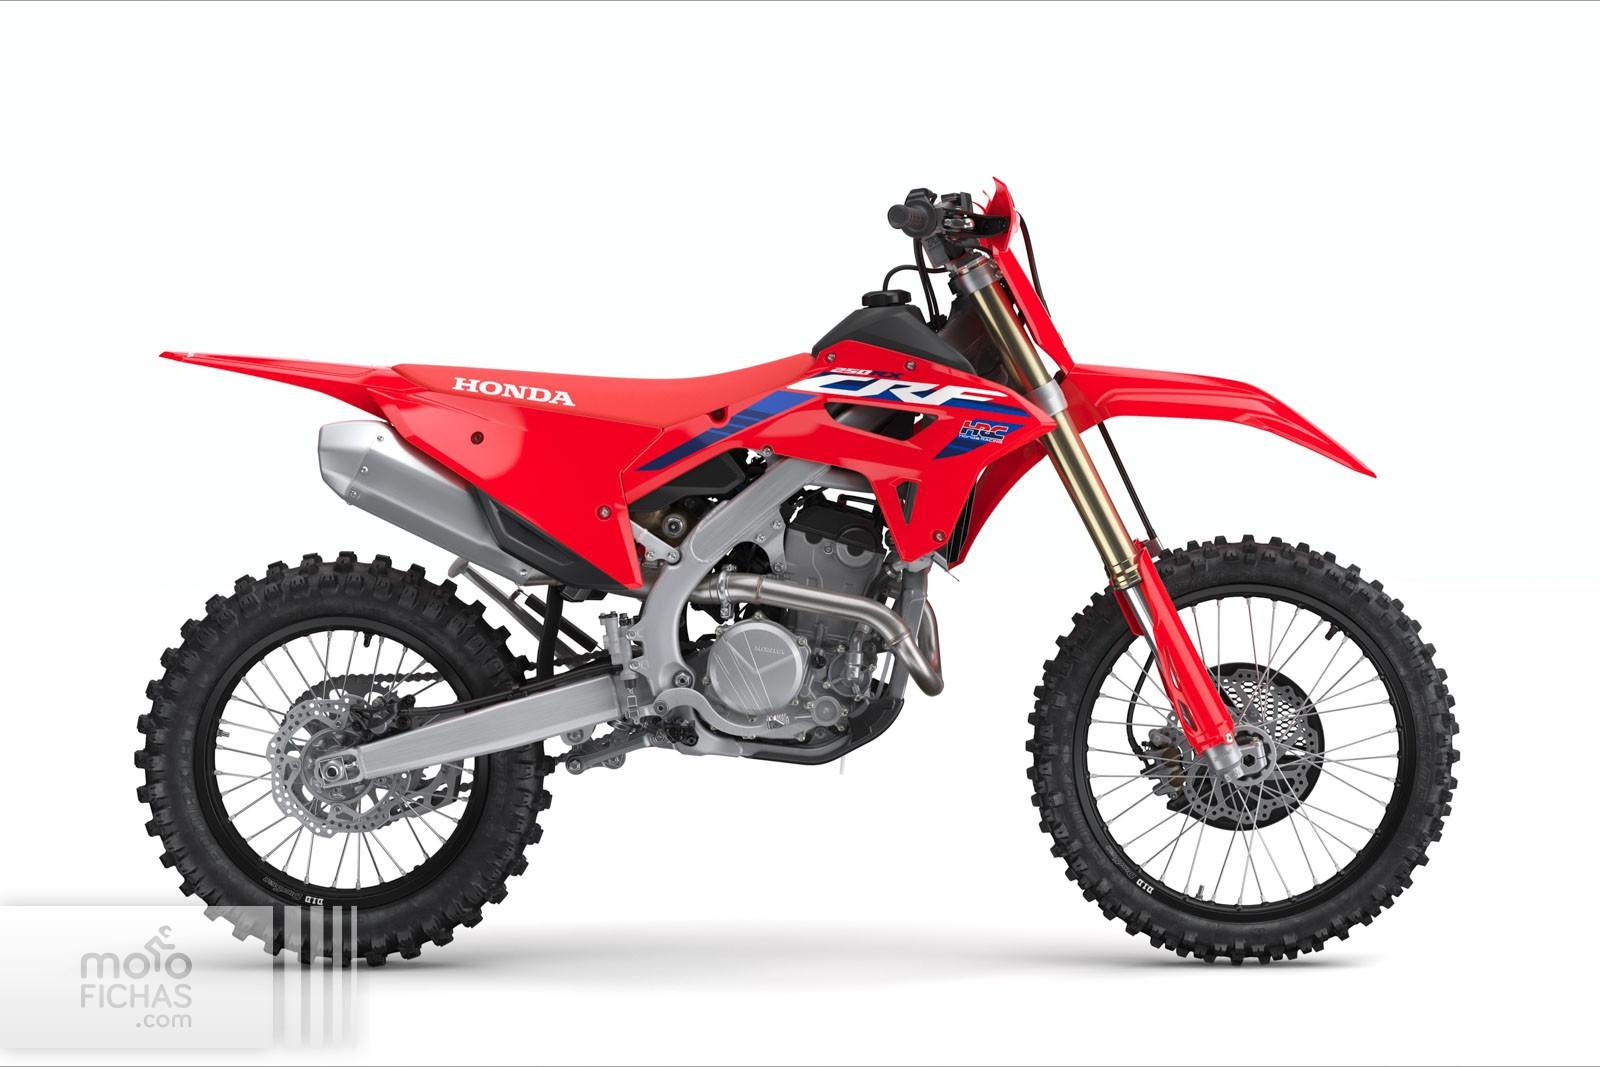engine-chasis: (563, 448, 944, 776)
exhaust: (317, 419, 658, 600), (690, 572, 944, 695)
frontside: (621, 245, 1380, 784)
handlebar: (887, 176, 1018, 273), (882, 237, 948, 332)
motorbike: (137, 180, 1454, 961)
rearside: (158, 350, 664, 591), (312, 672, 625, 788), (446, 557, 639, 676)
seat: (389, 352, 817, 428)
tank: (811, 288, 979, 376)
watermark: (0, 907, 358, 1056)
wheel: (136, 553, 614, 962), (1029, 536, 1455, 959), (1096, 420, 1164, 556), (1018, 210, 1050, 318)
